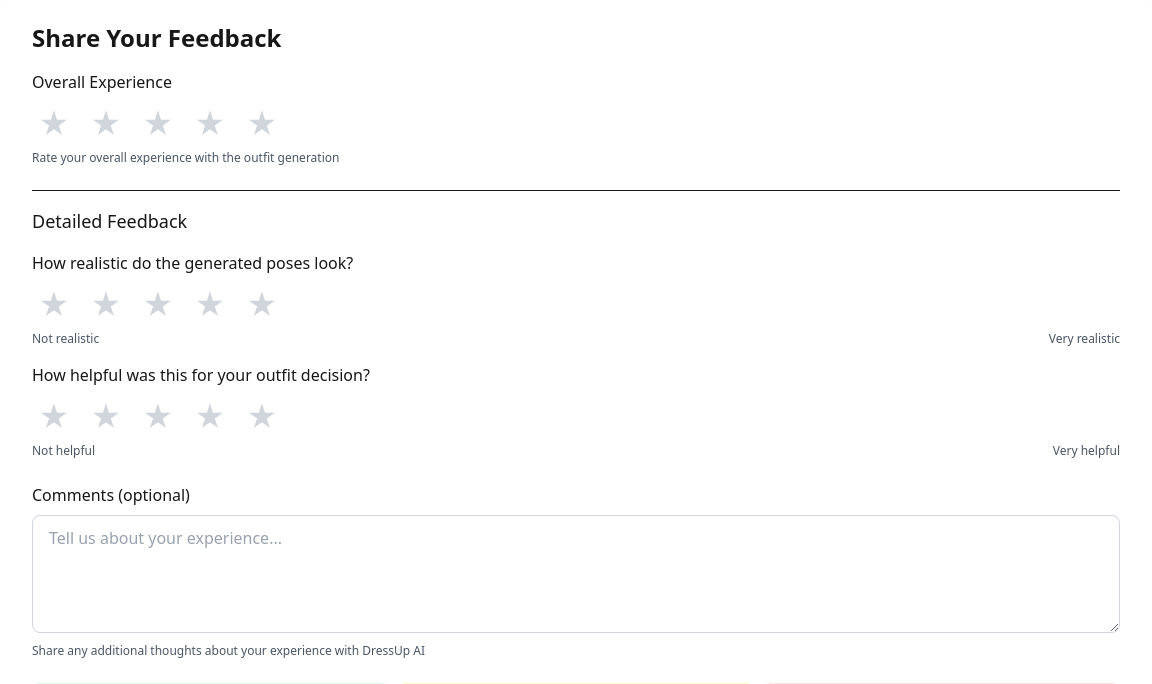
FeedbackSection › should show success message after submission
Note: Select rating and submit
Click the button named "star" at (262, 124), box [240,102,284,146]
(page scrolled)
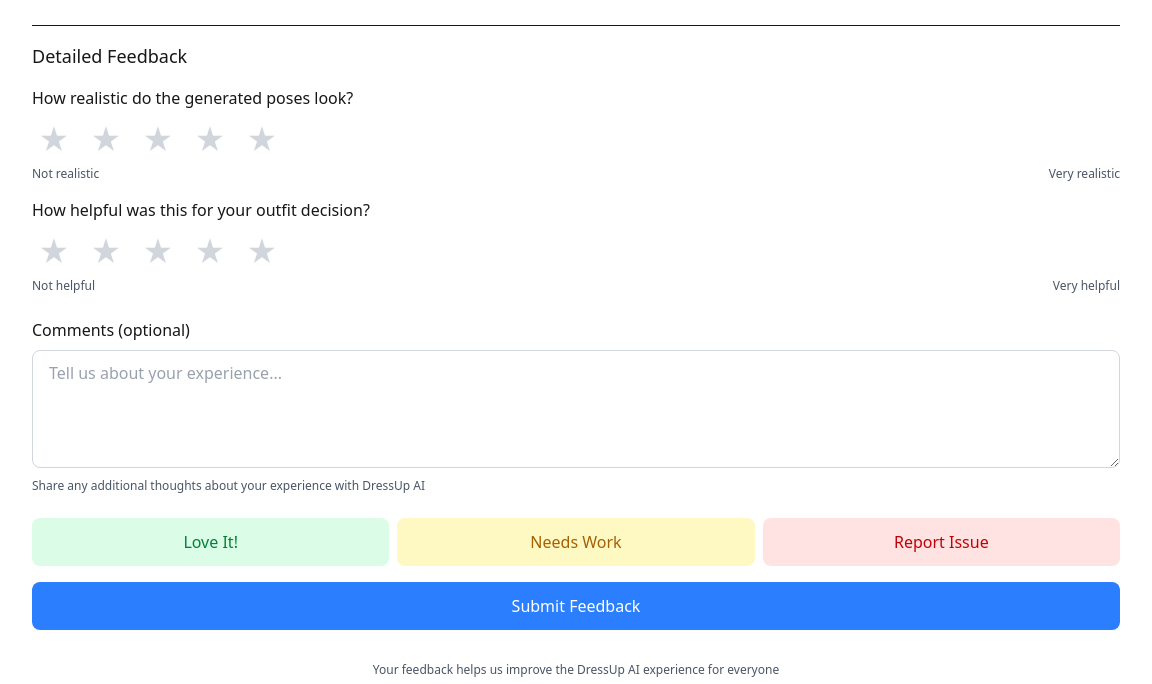
Click the button "Submit Feedback" at (576, 606), box [32,582,1120,630]
(page scrolled)
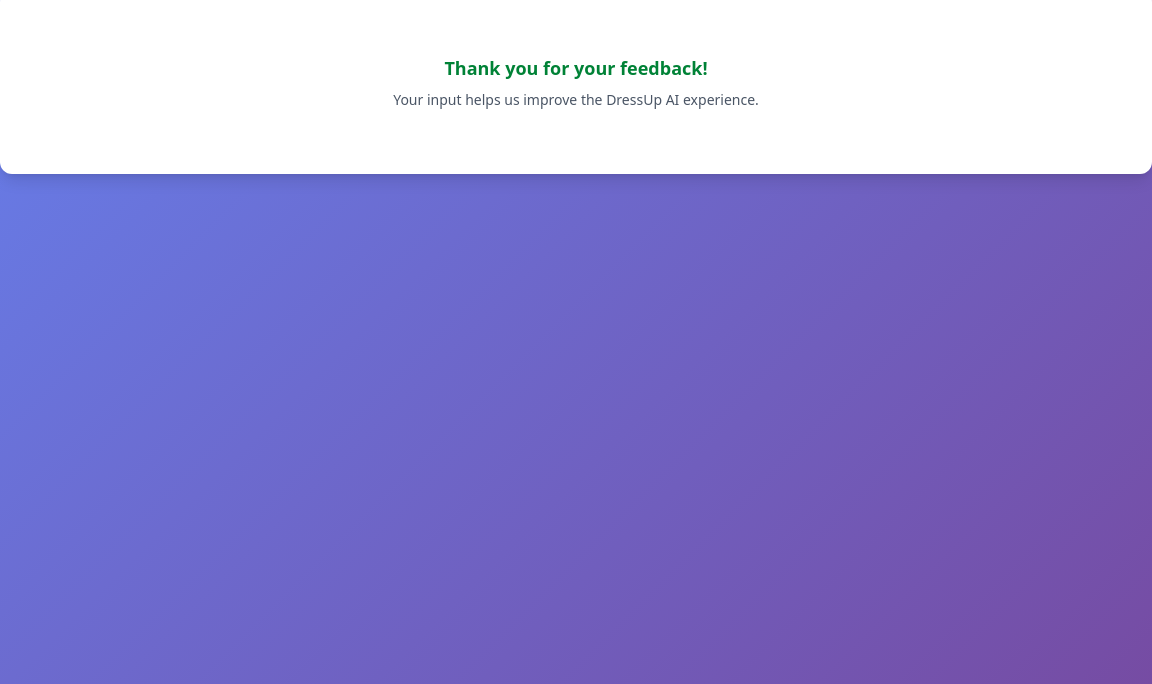
Expected: the heading "Thank you for your feedback!" is shown, [444,56,708,80]
